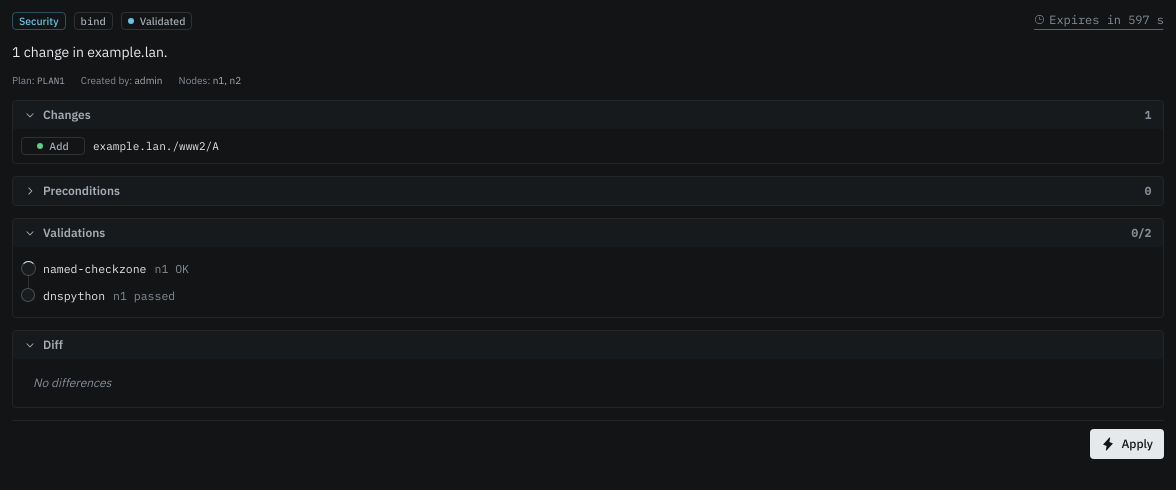
Test: plan procedures › job progress on the jobs topic moves the job rail
This screenshot has width=1176, height=490.
Click the button with test id "plan-apply". click: (1127, 444)
box: [1090,428,1164,458]
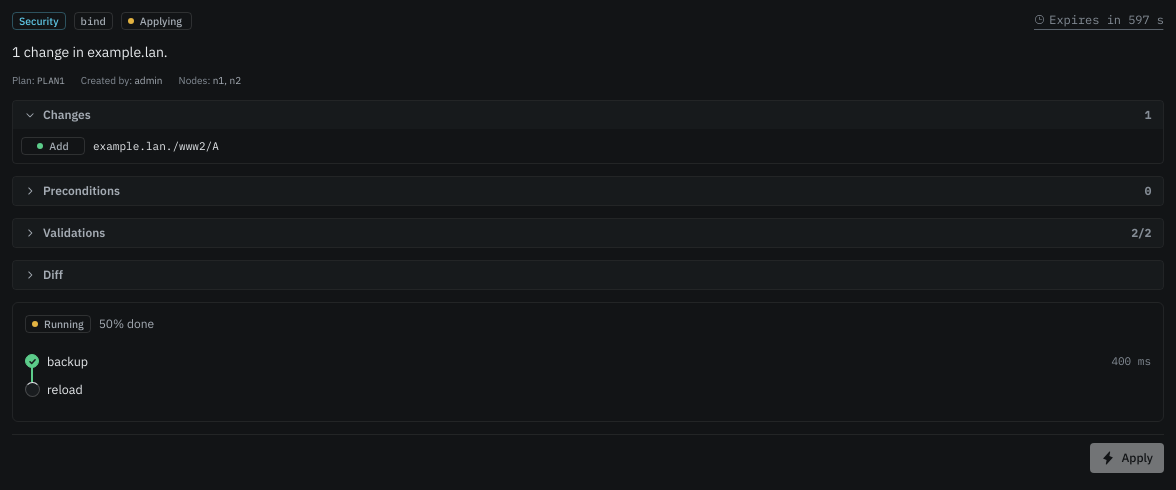
Expected: the element with test id "plan-job" is shown, [12,302,1164,422]
Expected: the element with test id "plan-job" shows "400 ms", [1111,354,1151,368]
